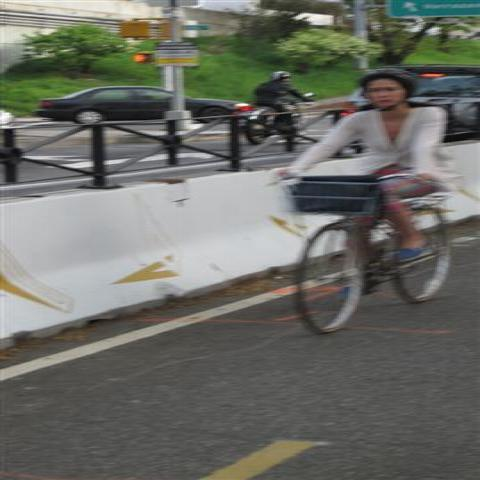car: (43, 88, 243, 123), (382, 65, 480, 136)
motorcycle: (236, 90, 314, 156)
